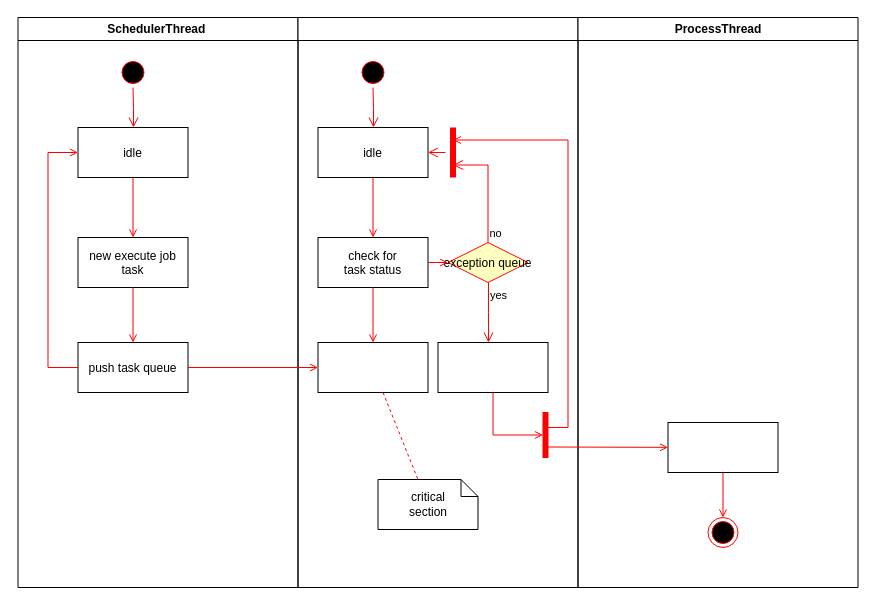
The diagram is 875 pixels wide and 605 high, and some of its shapes have lost their labels. The box of each missing label's shape, as (x1, y1, x2, y2) in pixels:
notify client: (437, 342, 548, 392)
process/notify /retry...: (667, 422, 778, 472)
task queue: (317, 342, 428, 392)
TaskMonitorThread: (297, 16, 578, 588)
